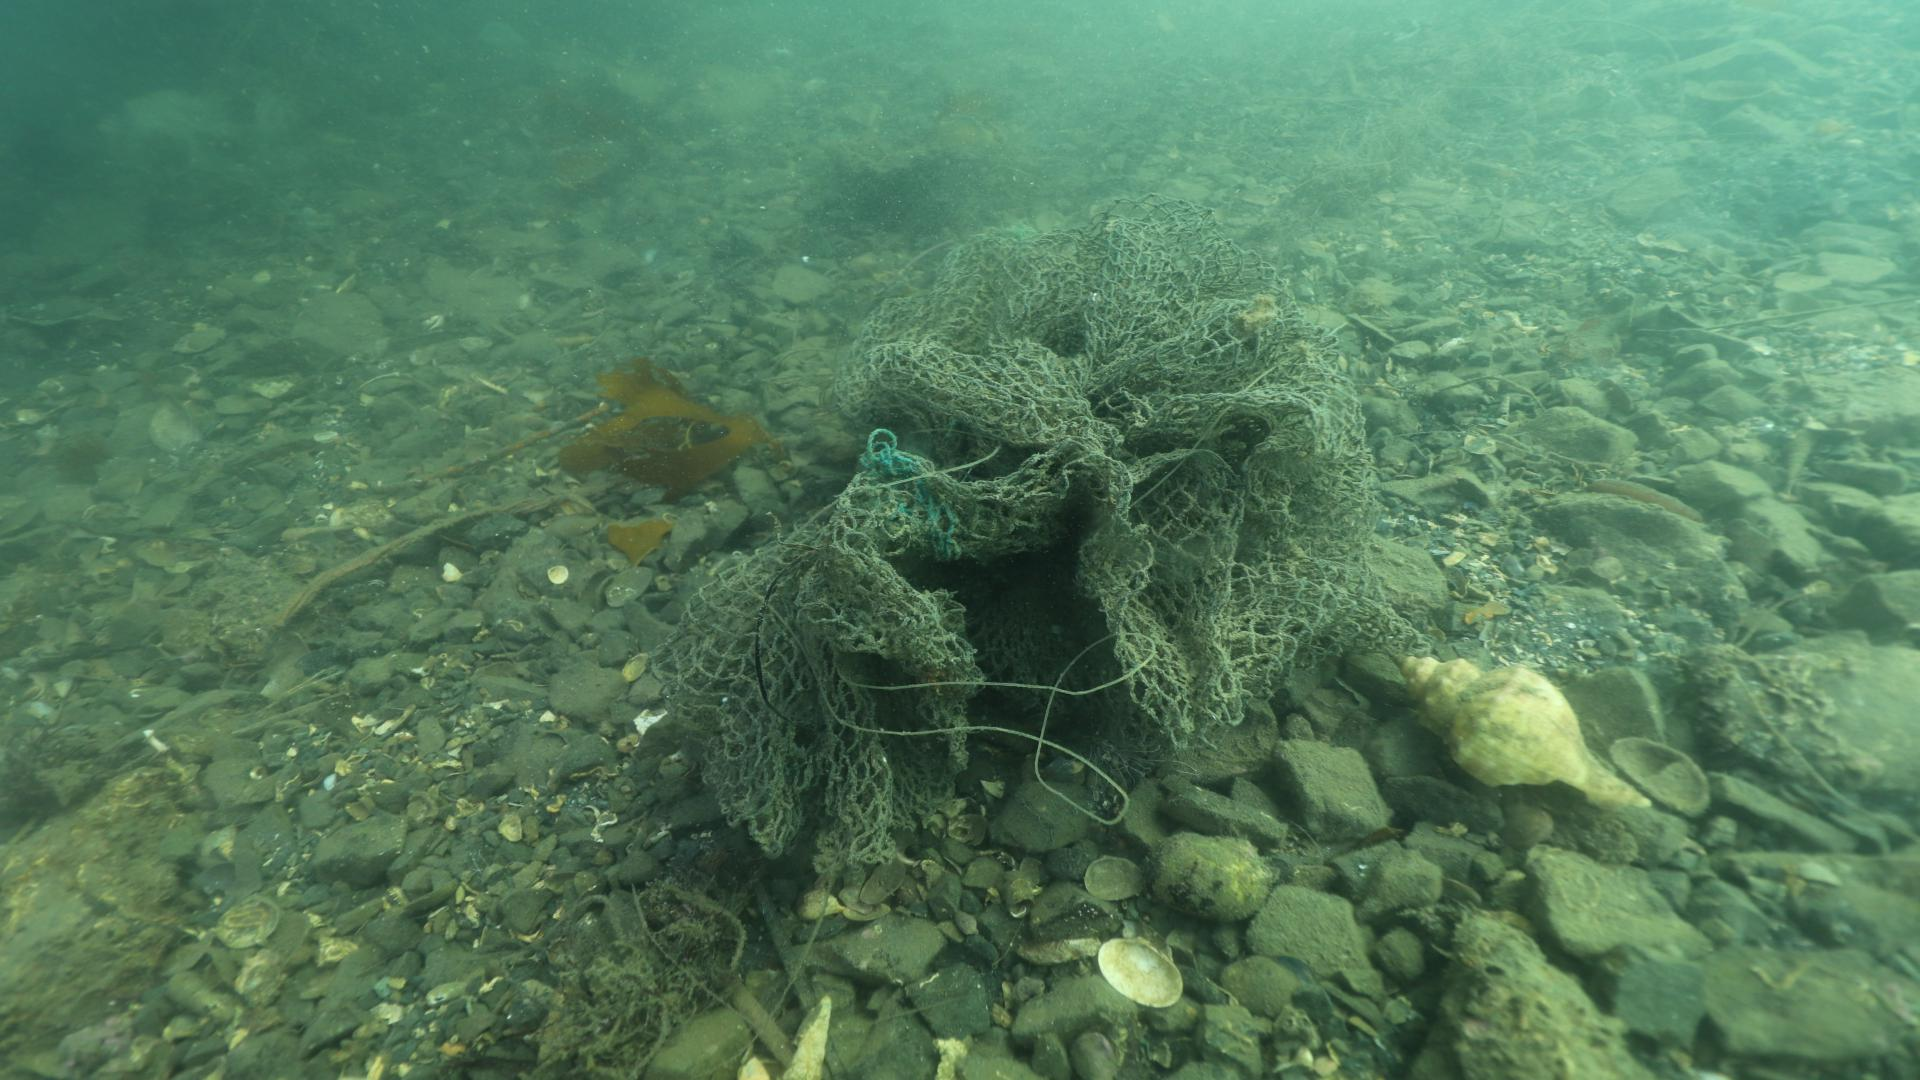fish net: (651, 190, 1375, 866)
